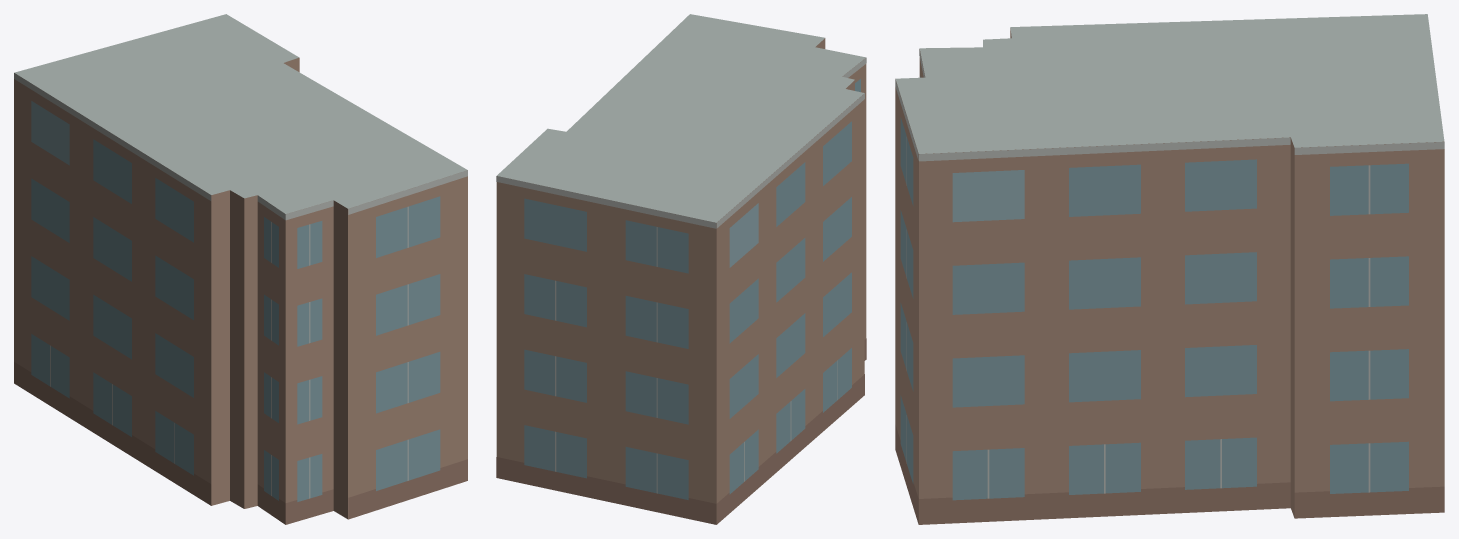
File: survey-upis-32919782.glb
The picture shows the model from 3 angles, left to right: view 1: azimuth 30°, elevation 25°; view 2: azimuth 150°, elevation 25°; view 3: azimuth 270°, elevation 25°; orthographic projection. The views are drawn at different scales.
Visible parts, largest first — view 1: survey-upis-32919782.tmp; view 2: survey-upis-32919782.tmp; view 3: survey-upis-32919782.tmp.
Part boxes in pixels (<box>): survey-upis-32919782.tmp: <box>14,14,467,524</box>; survey-upis-32919782.tmp: <box>496,14,866,524</box>; survey-upis-32919782.tmp: <box>895,14,1444,524</box>.
Size of the model in its own units: 9.89 by 12.2 by 16.38.
